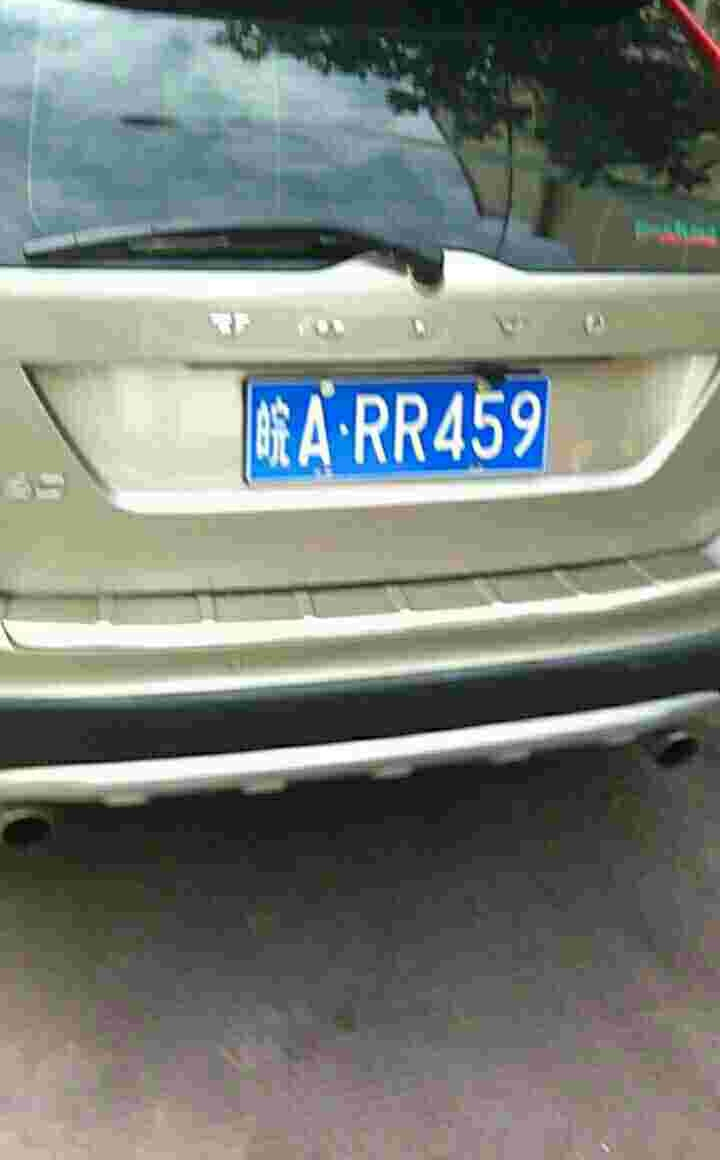license_plate: (250, 382, 552, 483)
